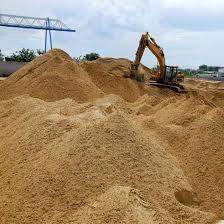sand: (186, 159, 218, 182), (109, 145, 132, 167), (30, 154, 51, 174), (24, 117, 44, 132), (176, 111, 194, 126), (42, 81, 59, 94), (87, 85, 98, 100)
